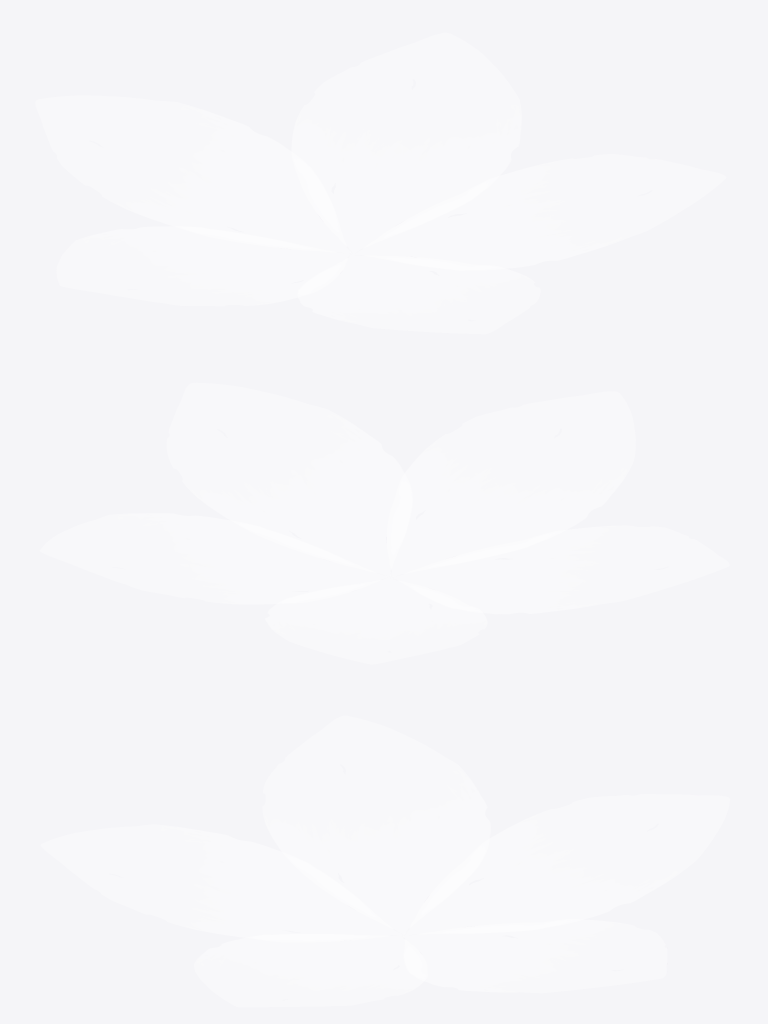
File: petal.glb
3 views of the same model, one above another, from view 1: azimuth 30°, elevation 25°; view 2: azimuth 150°, elevation 25°; view 3: azimuth 270°, elevation 25° (orthographic). The views are drawn at different scales.
Parts seen in each view (by area): view 1: pPlane1, pPlane2, pPlane5, pPlane3, pPlane4; view 2: pPlane5, pPlane4, pPlane1, pPlane3, pPlane2; view 3: pPlane3, pPlane2, pPlane4, pPlane1, pPlane5.
Boxes of the visible parts, <box> form: pPlane1: <box>291,33,521,253</box>; pPlane2: <box>35,95,350,253</box>; pPlane5: <box>352,154,725,270</box>; pPlane3: <box>56,226,350,305</box>; pPlane4: <box>298,254,540,333</box>; pPlane5: <box>167,383,412,576</box>; pPlane4: <box>387,391,635,576</box>; pPlane1: <box>40,513,389,604</box>; pPlane3: <box>391,525,729,614</box>; pPlane2: <box>265,578,487,664</box>; pPlane3: <box>262,716,490,934</box>; pPlane2: <box>403,794,729,935</box>; pPlane4: <box>41,824,402,941</box>; pPlane1: <box>403,919,666,992</box>; pPlane5: <box>194,934,427,1006</box>.
Size of the model in its own units: 2.66 by 0.2931 by 2.66.
Materials: 1 (1 with a texture image).
